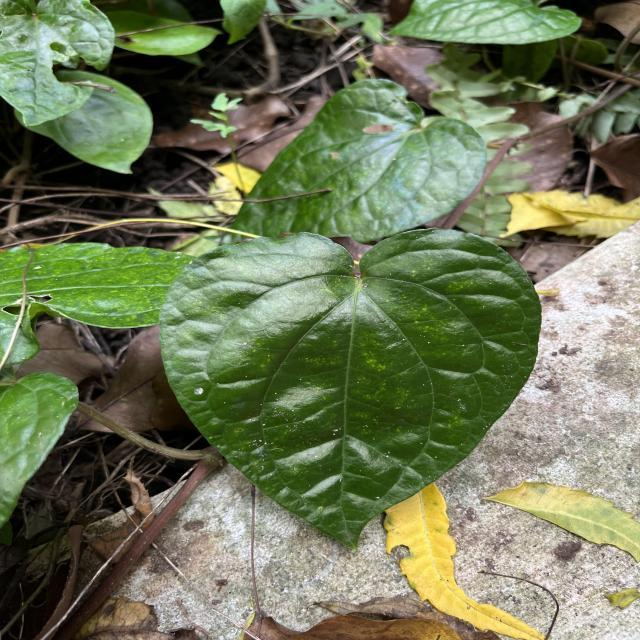Piper betle: (157, 222, 546, 555)
